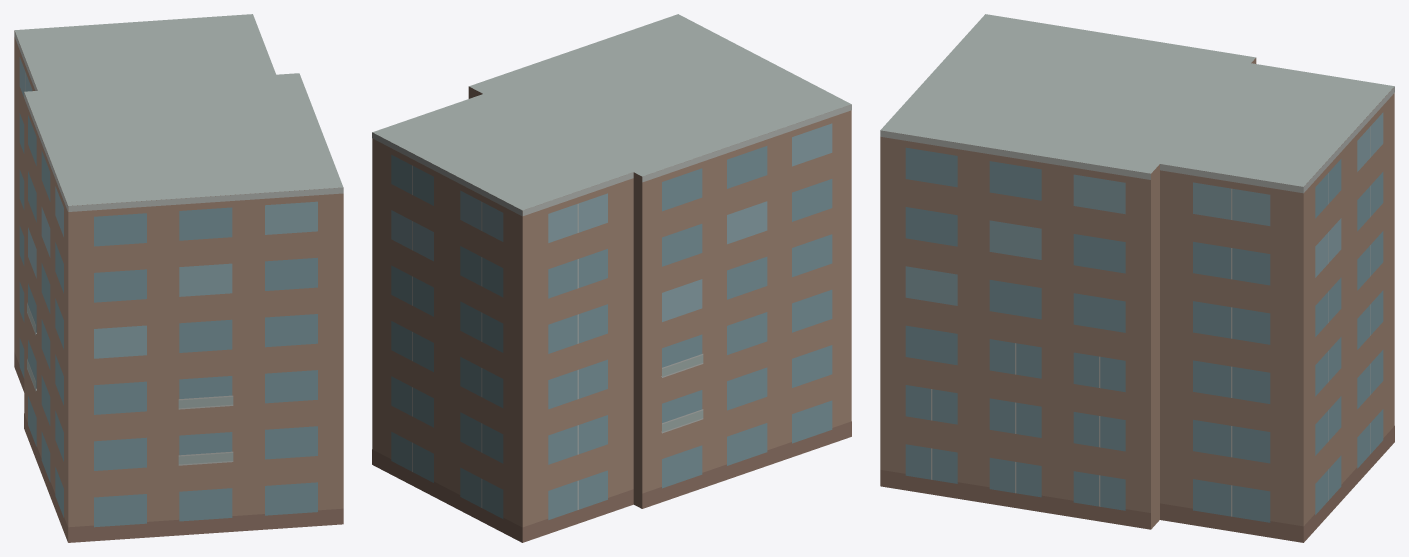
Rendered from survey-upis-32671555.glb.
3 renders of one model, left to right at view 1: azimuth 30°, elevation 25°; view 2: azimuth 150°, elevation 25°; view 3: azimuth 270°, elevation 25°, orthographic. The views are drawn at different scales.
Visible parts, largest first — view 1: survey-upis-32671555.tmp; view 2: survey-upis-32671555.tmp; view 3: survey-upis-32671555.tmp.
Boxes of the visible parts, <box> form: survey-upis-32671555.tmp: <box>14,14,343,542</box>; survey-upis-32671555.tmp: <box>372,14,851,542</box>; survey-upis-32671555.tmp: <box>880,14,1394,542</box>.
Bounding box in the file's own units: 14.18 × 13.6 × 17.83.
